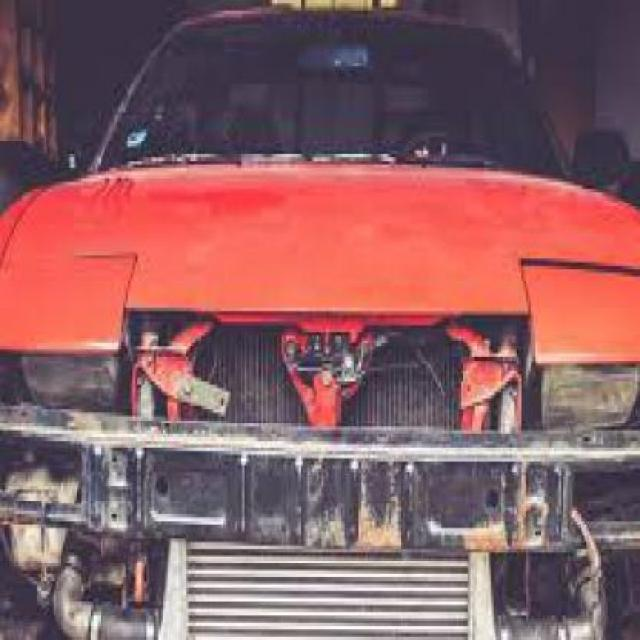damaged-front-bumper: (7, 440, 638, 637)
